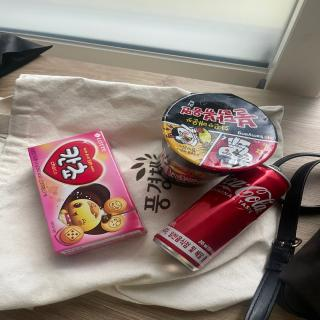cocacola: (144, 156, 305, 277)
